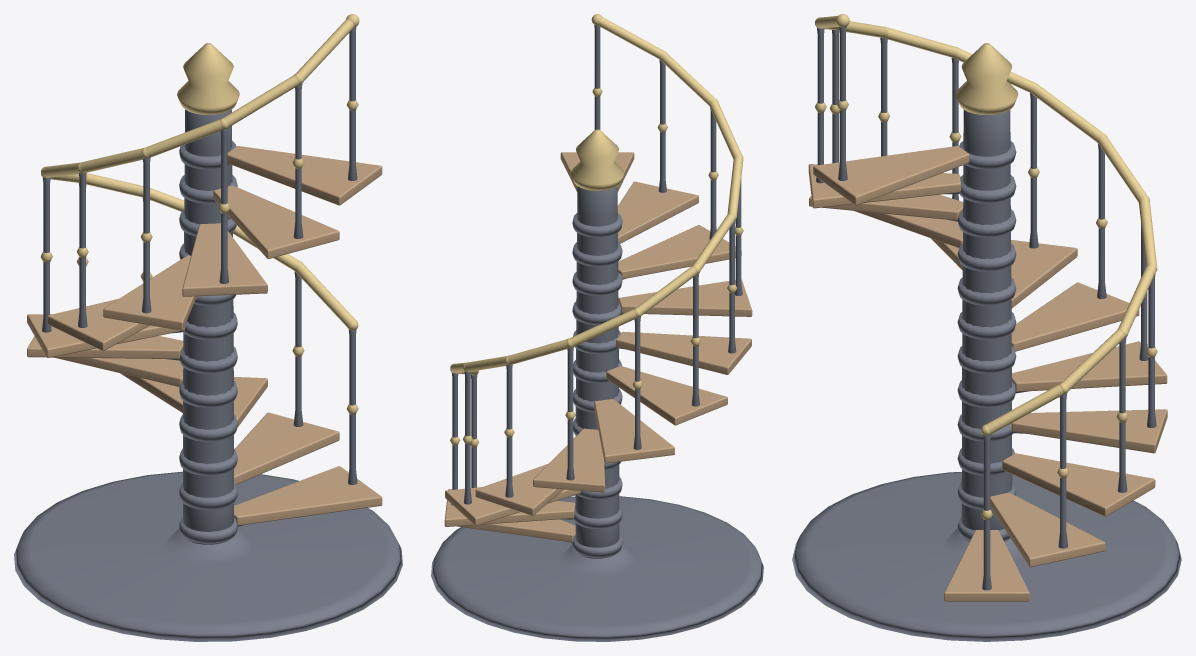
The model's file is webtoon-spiral-stair-core-v13.glb.
The picture shows the model from 3 angles, left to right: view 1: azimuth 30°, elevation 25°; view 2: azimuth 150°, elevation 25°; view 3: azimuth 270°, elevation 25°; orthographic projection. The views are drawn at different scales.
Parts seen in each view (by area): view 1: SpiralStairSteel, SpiralStairTreads, SpiralStairHandrail; view 2: SpiralStairSteel, SpiralStairTreads, SpiralStairHandrail; view 3: SpiralStairSteel, SpiralStairTreads, SpiralStairHandrail.
Boxes of the visible parts, x1,y1,x2,y2 form: SpiralStairSteel: (14,27,402,641); SpiralStairTreads: (27,146,382,525); SpiralStairHandrail: (40,14,359,414); SpiralStairSteel: (431,25,763,641); SpiralStairTreads: (444,152,752,542); SpiralStairHandrail: (450,14,743,447); SpiralStairSteel: (792,26,1181,641); SpiralStairTreads: (808,146,1167,601); SpiralStairHandrail: (815,14,1157,520).
Size of the model in its own units: 1.92 by 3.15 by 1.92.
